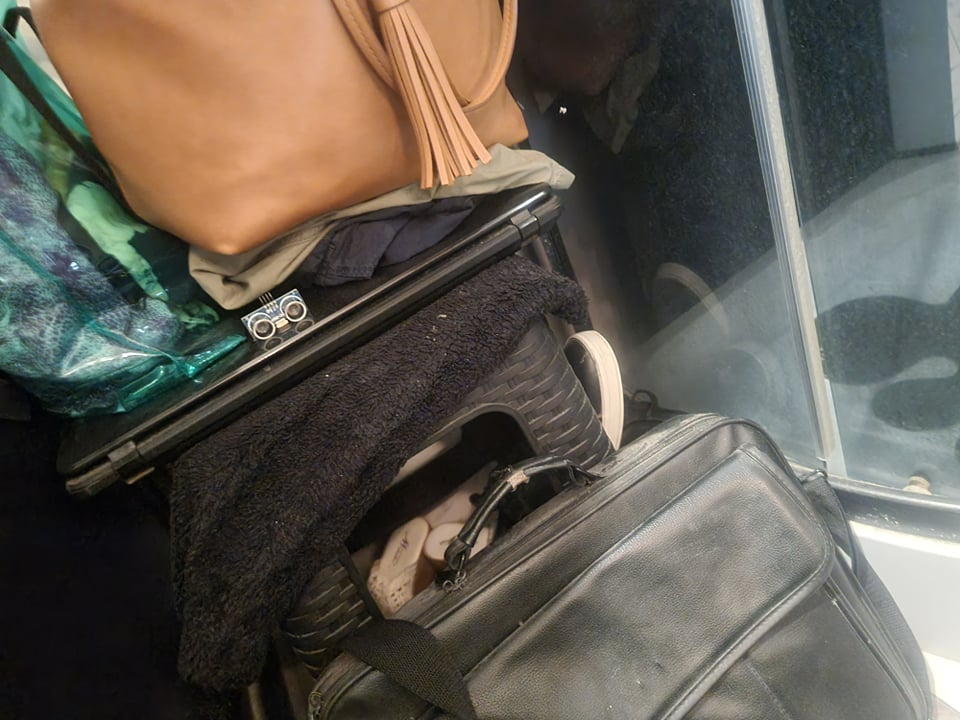SENSOR: (239, 289, 309, 342)
